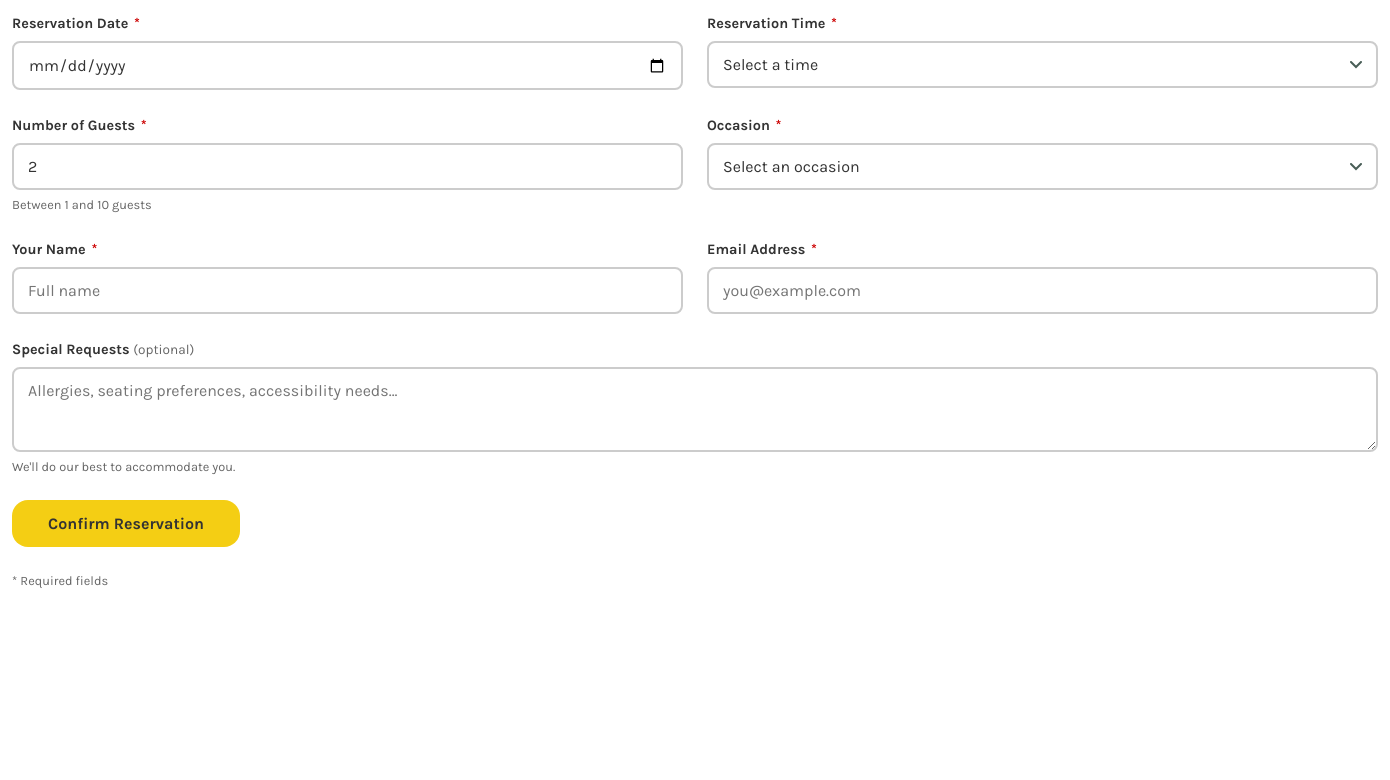
Test: BookingForm – validation on submit › shows error for invalid email format
Type "bad-email" into the field labelled "Email Address *" at coordinates (1042, 290), box [707, 267, 1378, 314]
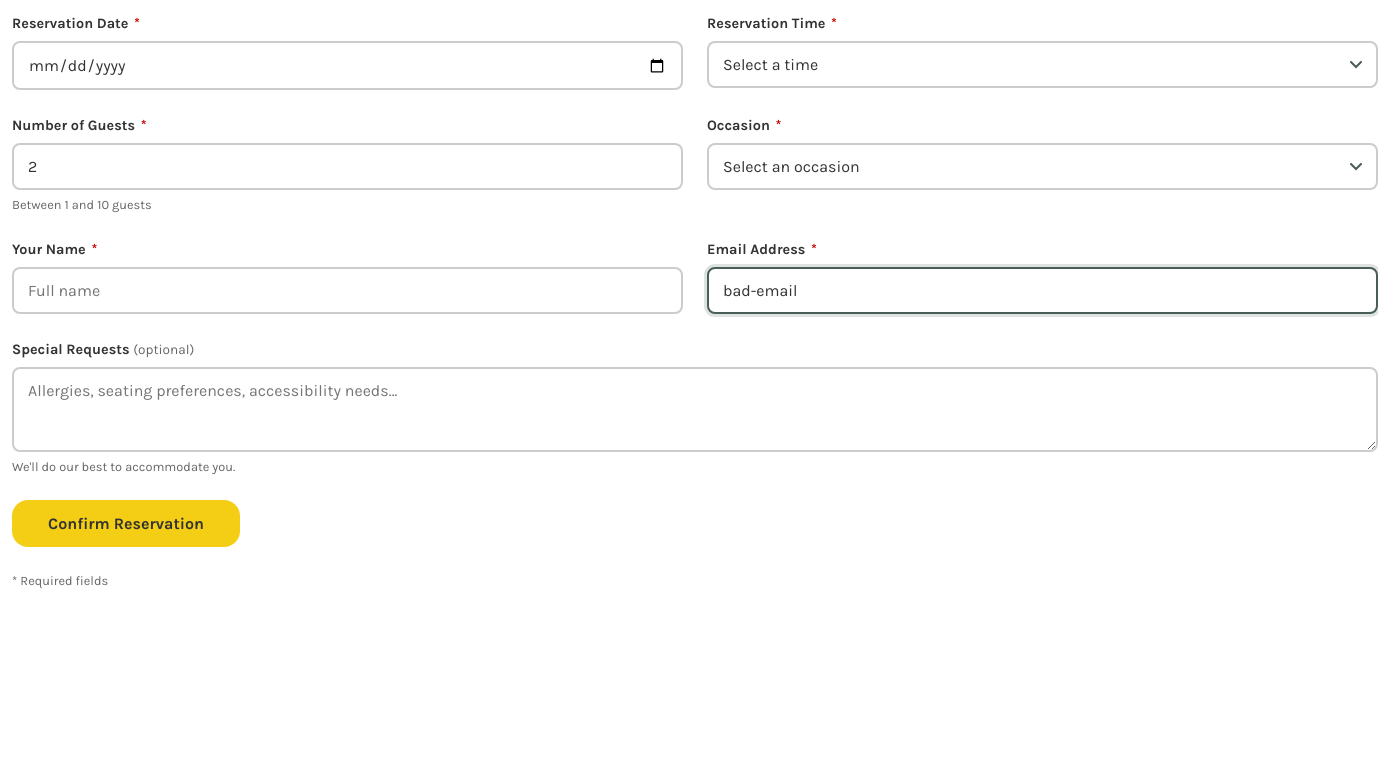
Click the button "Confirm Reservation" at coordinates (126, 524), box [12, 500, 240, 547]
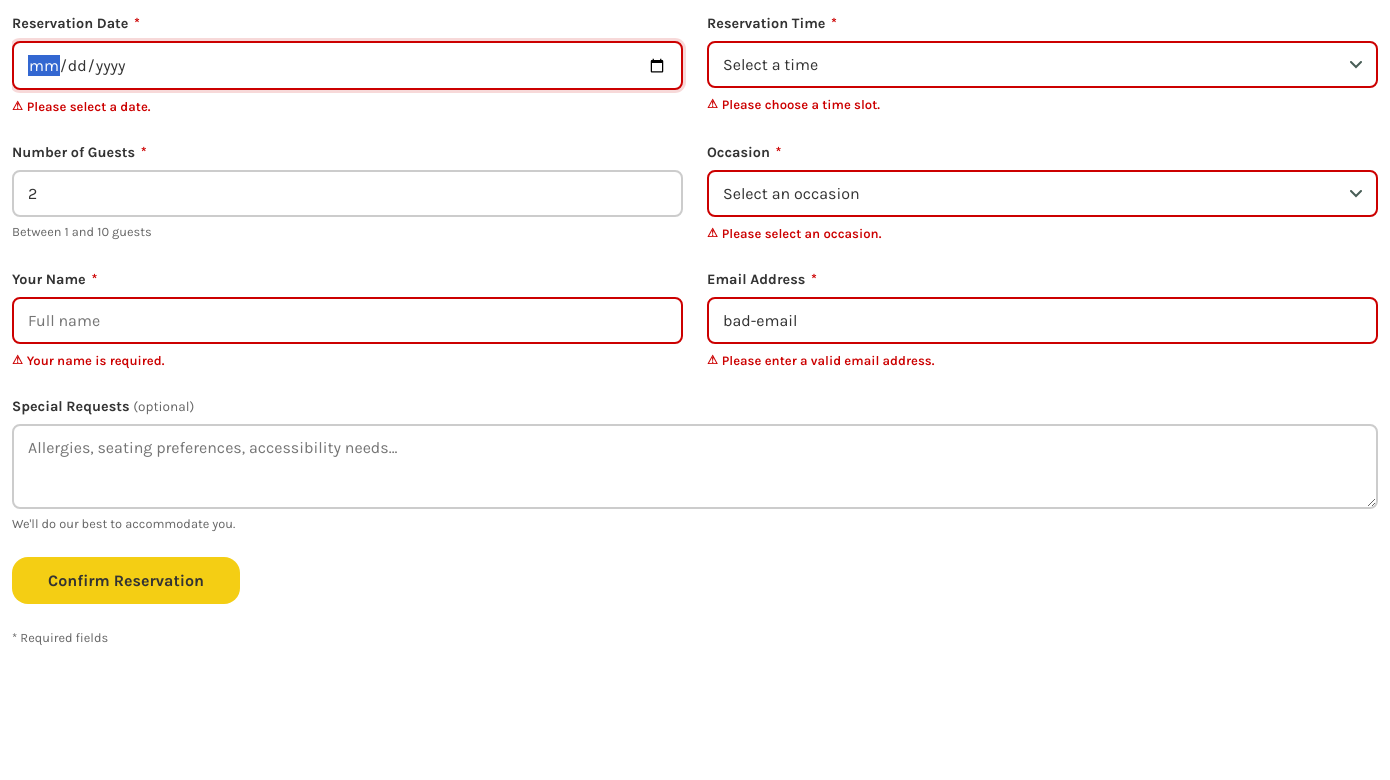
Check: the text "Please enter a valid email address." is shown, box [722, 353, 934, 368]
